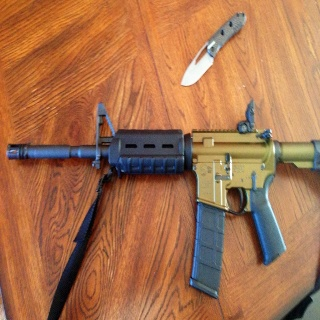rifle: (5, 99, 317, 301)
